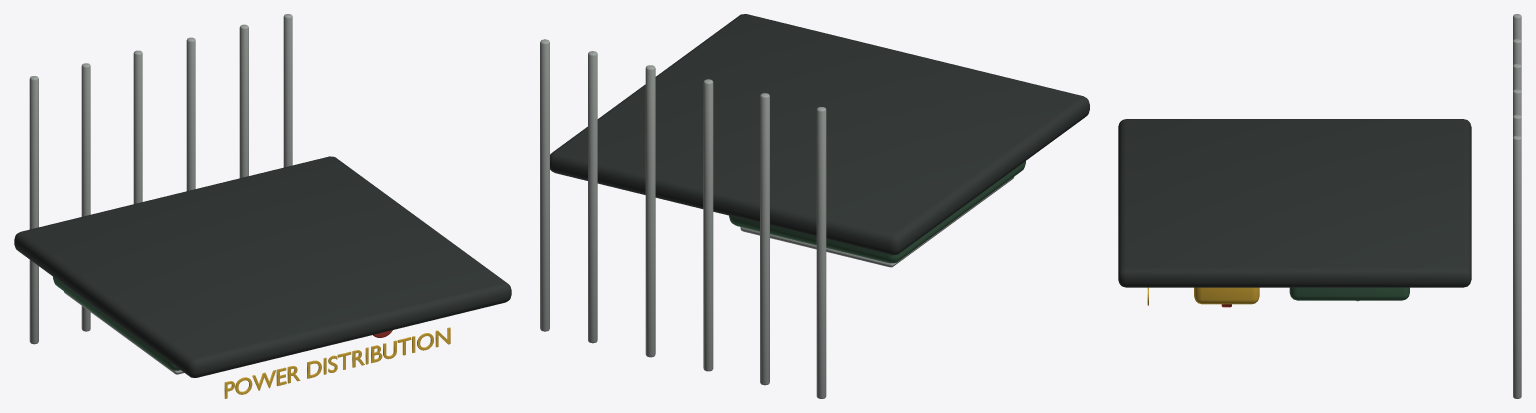
Rendered from electrical_wall_v3.glb.
The picture shows the model from 3 angles, left to right: view 1: azimuth 30°, elevation 25°; view 2: azimuth 150°, elevation 25°; view 3: azimuth 270°, elevation 25°; orthographic projection. The views are drawn at different scales.
Parts seen in each view (by area): view 1: Elec_Backboard, ElecConduit-1.0, ElecLabel, ElecConduit-0.55, ElecConduit0.36, ElecConduit0.82, ElecConduit1.2, ElecConduit-0.1, BreakerCabinet; view 2: Elec_Backboard, ElecConduit-0.1, ElecConduit0.36, ElecConduit-1.0, ElecConduit1.2, ElecConduit-0.55, ElecConduit0.82, BreakerCabinet, BreakerDoor; view 3: Elec_Backboard, ElecConduit1.2, MeterBox, EmergencyIsolator.
Boxes of the visible parts, x1,y1,x2,y2 form: Elec_Backboard: (14, 156, 511, 377); ElecConduit-1.0: (29, 76, 38, 344); ElecLabel: (224, 327, 450, 398); ElecConduit-0.55: (81, 63, 90, 331); ElecConduit0.36: (186, 37, 195, 190); ElecConduit0.82: (239, 24, 248, 178); ElecConduit1.2: (283, 14, 292, 167); ElecConduit-0.1: (133, 50, 142, 203); BreakerCabinet: (53, 277, 180, 370); Elec_Backboard: (550, 14, 1089, 255); ElecConduit-0.1: (703, 79, 713, 371); ElecConduit0.36: (645, 65, 655, 357); ElecConduit-1.0: (816, 107, 826, 398); ElecConduit1.2: (540, 39, 549, 331); ElecConduit-0.55: (760, 93, 769, 385); ElecConduit0.82: (588, 51, 597, 343); BreakerCabinet: (729, 161, 1025, 263); BreakerDoor: (740, 177, 1013, 267); Elec_Backboard: (1118, 119, 1471, 287); ElecConduit1.2: (1513, 135, 1521, 398); MeterBox: (1289, 287, 1409, 300); EmergencyIsolator: (1194, 287, 1259, 304).
Bounding box in the file's own units: 2.8 × 2.2 × 3.08.
